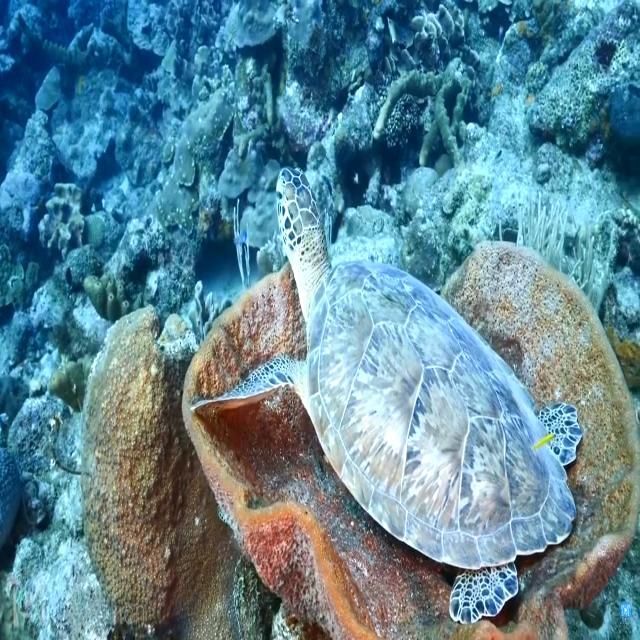Sea turtle: (185, 168, 582, 621)
